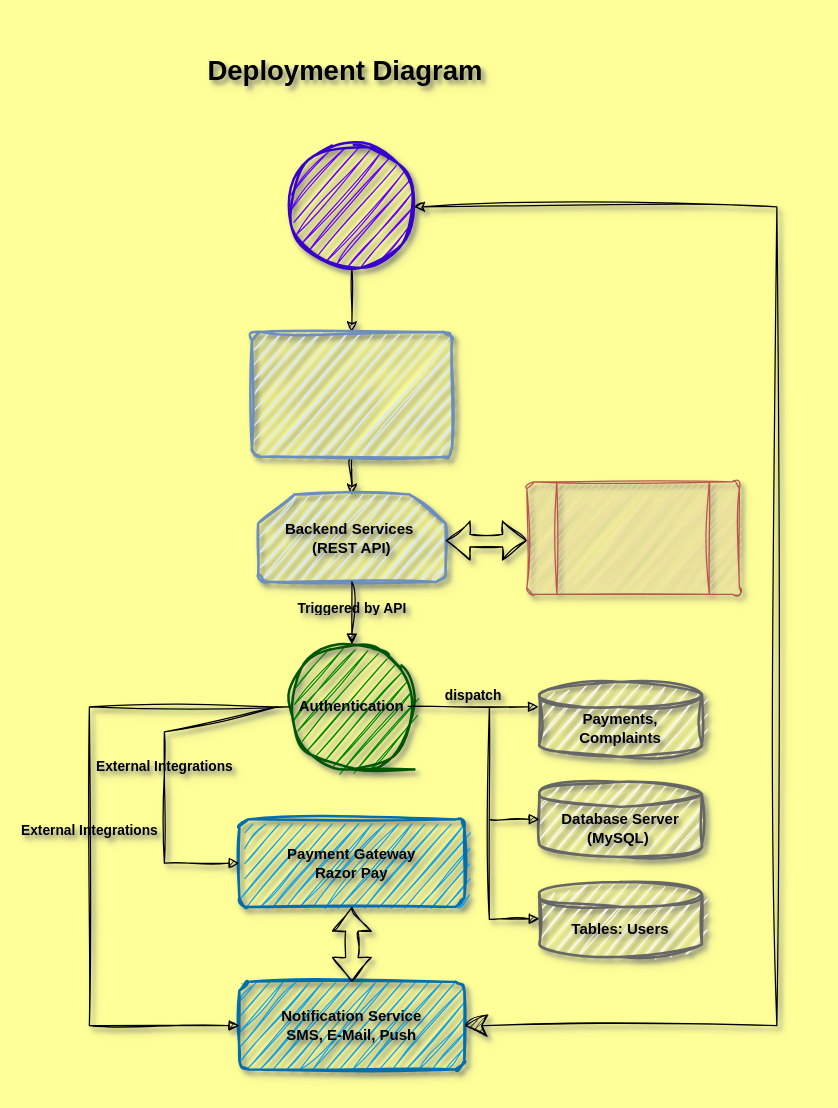
Image size: 838x1108. Some labels were removed from this diagram. The shapes that lost their labels are listed below. From the top down, each one's centre as x and y in pixels, then its label:
At (352,208): "Resident Device (Mobile App / Browser)".
At (352,395): "Web/Application Server (Apache / Nginx + React / Node.js)".
At (634,539): "Role Management , Complaint Management, etc".
